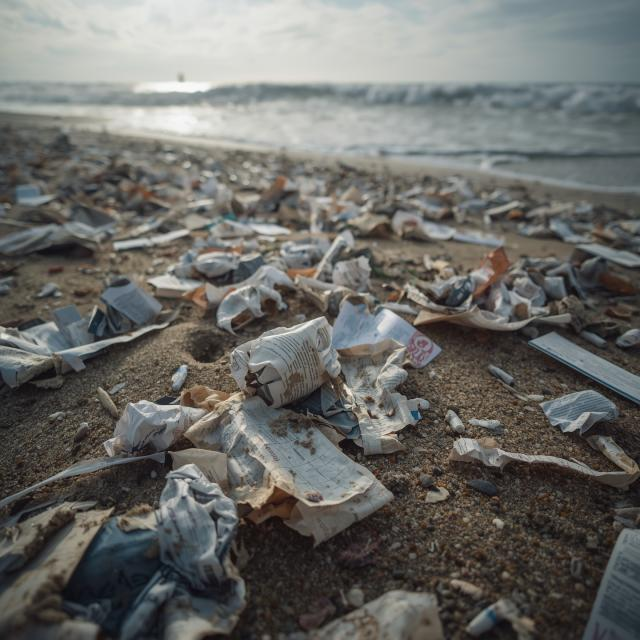paper: (100, 475, 268, 640), (223, 412, 386, 552), (0, 296, 180, 382), (399, 246, 553, 343), (222, 320, 363, 424), (496, 307, 640, 403), (513, 370, 631, 474), (556, 497, 640, 639), (300, 578, 483, 640), (347, 290, 452, 386), (172, 242, 294, 317)
